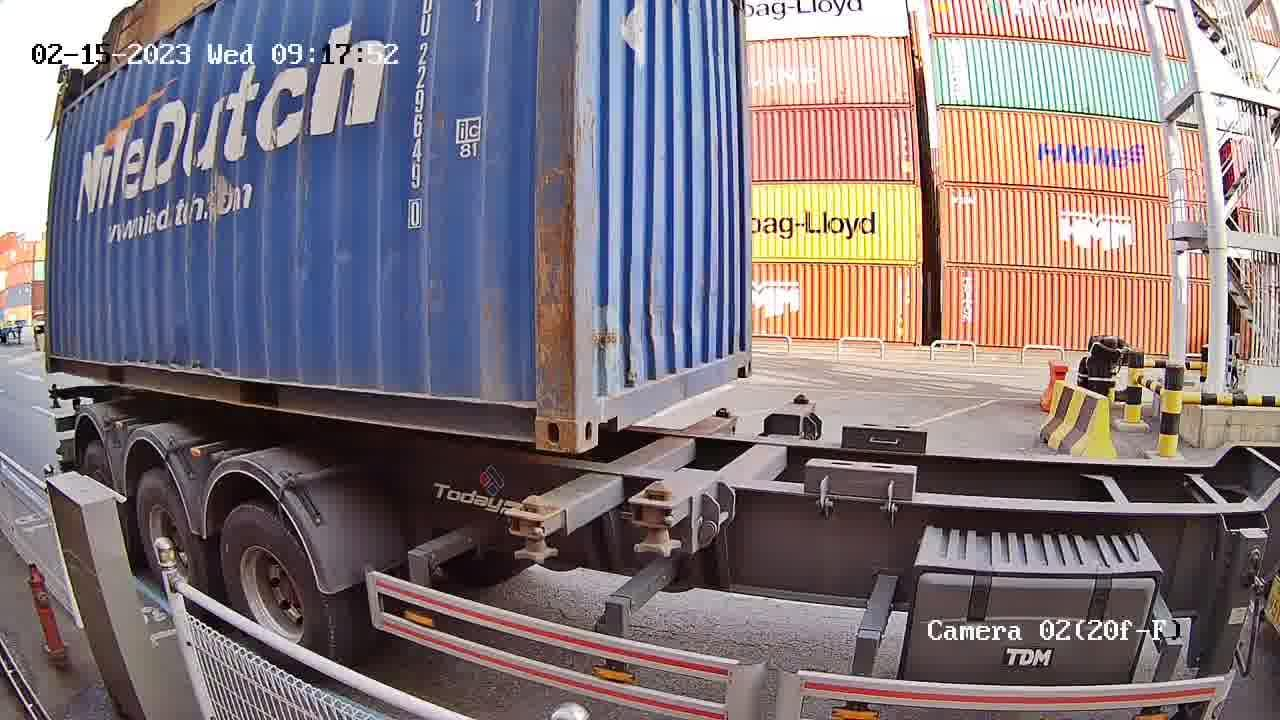Chassis: (540, 414, 740, 540)
Cone: (514, 489, 557, 561), (712, 405, 741, 416)
Hole_L: (576, 371, 640, 449)
Hole_R: (493, 380, 579, 455), (723, 338, 754, 384)
Tire: (223, 509, 326, 642), (135, 473, 194, 585), (82, 440, 115, 484)
